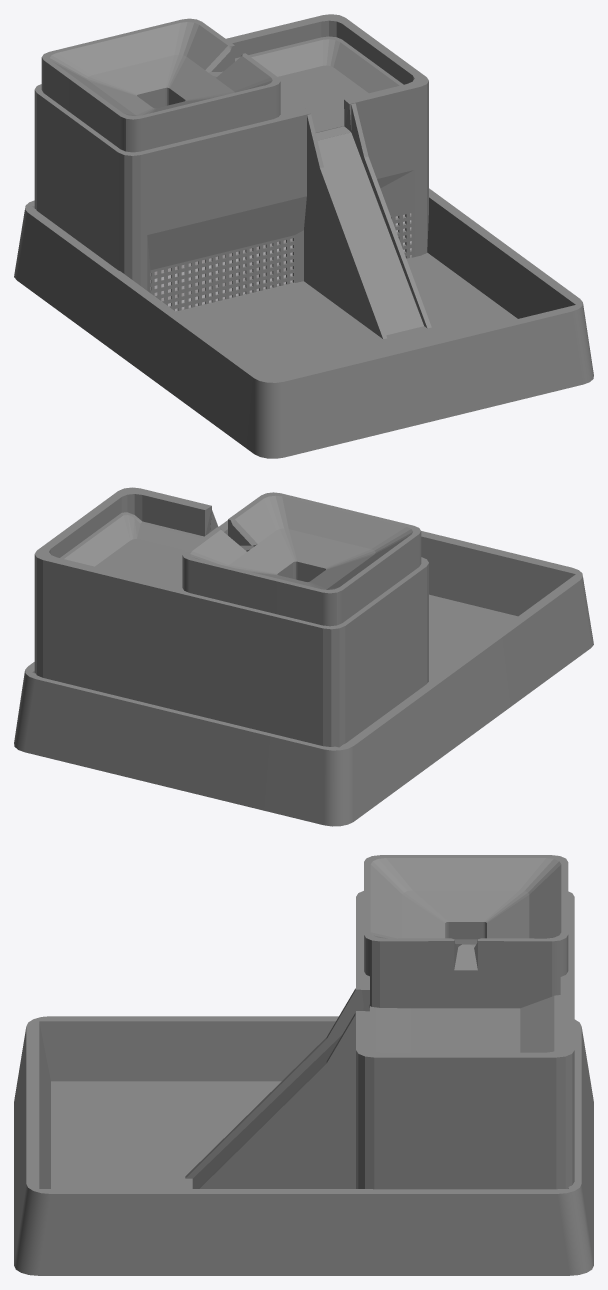
File: CatFountain.fbx
The picture shows the model from 3 angles, top to bottom: view 1: azimuth 30°, elevation 25°; view 2: azimuth 150°, elevation 25°; view 3: azimuth 270°, elevation 25°; orthographic projection. The views are drawn at different scales.
Visible parts, largest first — view 1: pCube1, pCube2, pCube3, pCube4, pCube54, pPlane2, pCube53; view 2: pCube2, pCube1, pCube3; view 3: pCube1, pCube2, pCube3, pCube4.
Boxes of the visible parts, x1,y1,x2,y2 form: pCube1: (14, 188, 593, 458); pCube2: (34, 14, 428, 292); pCube3: (41, 18, 280, 152); pCube4: (304, 103, 431, 339); pCube54: (150, 235, 294, 310); pPlane2: (150, 238, 292, 311); pCube53: (390, 210, 411, 258); pCube2: (34, 487, 428, 747); pCube1: (14, 520, 593, 826); pCube3: (182, 492, 421, 626); pCube1: (14, 1016, 593, 1275); pCube2: (356, 891, 574, 1189); pCube3: (364, 855, 568, 1008); pCube4: (185, 988, 363, 1188).
Size of the model in its own units: 15 by 9.43 by 20.
2 materials, 1 textured.
